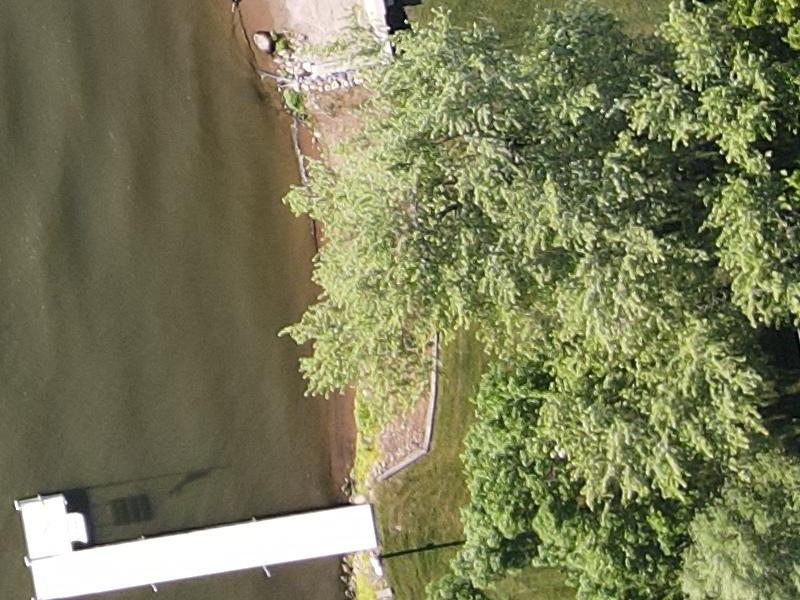boat: (14, 491, 378, 600)
